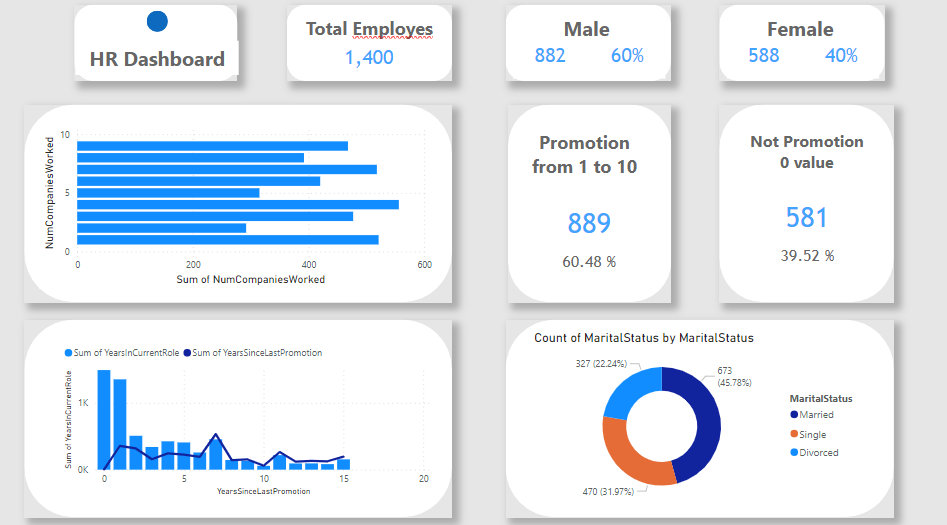

This screenshot's page, from the dashboard's own definition file:
{"tool":"powerbi","page":{"name":"Page 1","canvas":[1280,720],"ordinal":0},"visuals":[{"type":"shape","box":[102.2,16.1,217.9,102.2],"z":1000},{"type":"shape","box":[384.7,16.1,220.6,102.2],"z":2000},{"type":"shape","box":[676.6,17.5,220.6,102.2],"z":3000},{"type":"shape","box":[961.8,17.5,220.6,102.2],"z":4000},{"type":"shape","box":[35,149.3,570.3,263.6],"z":5000},{"type":"shape","box":[676.6,437.2,517.9,263.6],"z":7000},{"type":"shape","box":[679.3,149.3,217.9,263.6],"z":8000},{"type":"shape","box":[961.8,149.3,232.7,263.6],"z":9000},{"type":"textbox","box":[103.6,64.6,217.9,45.7],"z":10000},{"type":"shape","box":[197.7,24.2,28.2,28.2],"z":11000},{"type":"textbox","box":[394.1,21.5,203.1,53.8],"z":12000},{"type":"textbox","box":[426.4,65.9,135.9,47.1],"z":13000},{"type":"textbox","box":[686,24.2,203.1,90.1],"z":14000},{"type":"textbox","box":[971.2,24.2,203.1,90.1],"z":15000},{"type":"textbox","box":[988.7,178.9,180.2,100.9],"z":16000},{"type":"textbox","box":[1015.6,282.5,125.1,110.3],"z":17000},{"type":"clusteredBarChart","fields":{"Category":["HR Analytics Data.NumCompaniesWorked"],"Y":["Sum(HR Analytics Data.NumCompaniesWorked)"]},"box":[55.1,169.5,528.6,226],"z":18000},{"type":"donutChart","fields":{"Category":["HR Analytics Data.MaritalStatus"],"Y":["CountNonNull(HR Analytics Data.MaritalStatus)"]},"box":[710.2,449.3,449.3,239.4],"z":19000},{"type":"textbox","box":[691.4,178.9,180.2,88.8],"z":21000},{"type":"textbox","box":[718.3,282.5,139.9,102.2],"z":22000},{"type":"shape","box":[35,437.2,570.3,263.6],"z":23000},{"type":"lineClusteredColumnComboChart","fields":{"Category":["HR Analytics Data.YearsSinceLastPromotion"],"Y":["Sum(HR Analytics Data.YearsInCurrentRole)"],"Y2":["Sum(HR Analytics Data.YearsSinceLastPromotion)"]},"box":[83.4,461.4,500.4,215.2],"z":24001}]}

Visuals, with their boxes in screenshot pixels (x1, y1, x2, y2), scaled from the page's 1280x720 canvas onto the 947x525 screenshot:
shape: bbox(76, 12, 237, 86)
shape: bbox(285, 12, 448, 86)
shape: bbox(501, 13, 664, 87)
shape: bbox(712, 13, 875, 87)
shape: bbox(26, 109, 448, 301)
shape: bbox(501, 319, 884, 511)
shape: bbox(503, 109, 664, 301)
shape: bbox(712, 109, 884, 301)
textbox: bbox(77, 47, 238, 80)
shape: bbox(146, 18, 167, 38)
textbox: bbox(292, 16, 442, 55)
textbox: bbox(315, 48, 416, 82)
textbox: bbox(508, 18, 658, 83)
textbox: bbox(719, 18, 869, 83)
textbox: bbox(731, 130, 865, 204)
textbox: bbox(751, 206, 844, 286)
clusteredBarChart - HR Analytics Data.NumCompaniesWorked x Sum(HR Analytics Data.NumCompaniesWorked): bbox(41, 124, 432, 288)
donutChart - HR Analytics Data.MaritalStatus x CountNonNull(HR Analytics Data.MaritalStatus): bbox(525, 328, 858, 502)
textbox: bbox(512, 130, 645, 195)
textbox: bbox(531, 206, 635, 281)
shape: bbox(26, 319, 448, 511)
lineClusteredColumnComboChart - HR Analytics Data.YearsSinceLastPromotion x Sum(HR Analytics Data.YearsInCurrentRole): bbox(62, 336, 432, 493)
